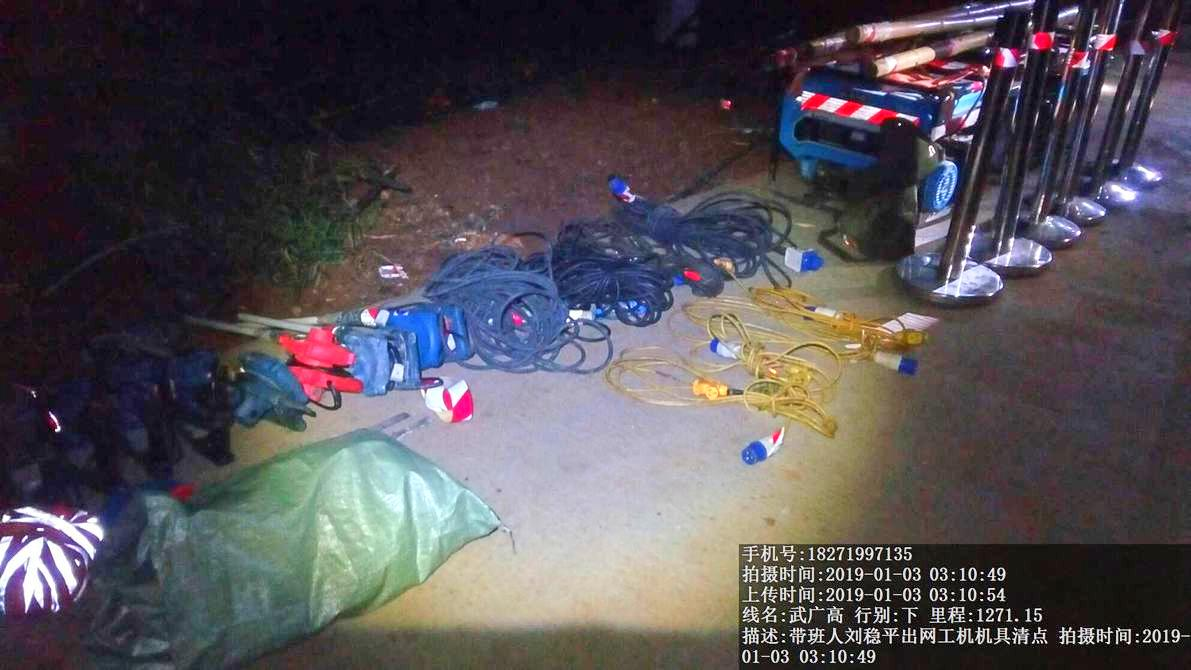DJ: (781, 59, 955, 242)
DX: (436, 260, 585, 376), (550, 230, 670, 320)
GFJ: (183, 339, 307, 422)
